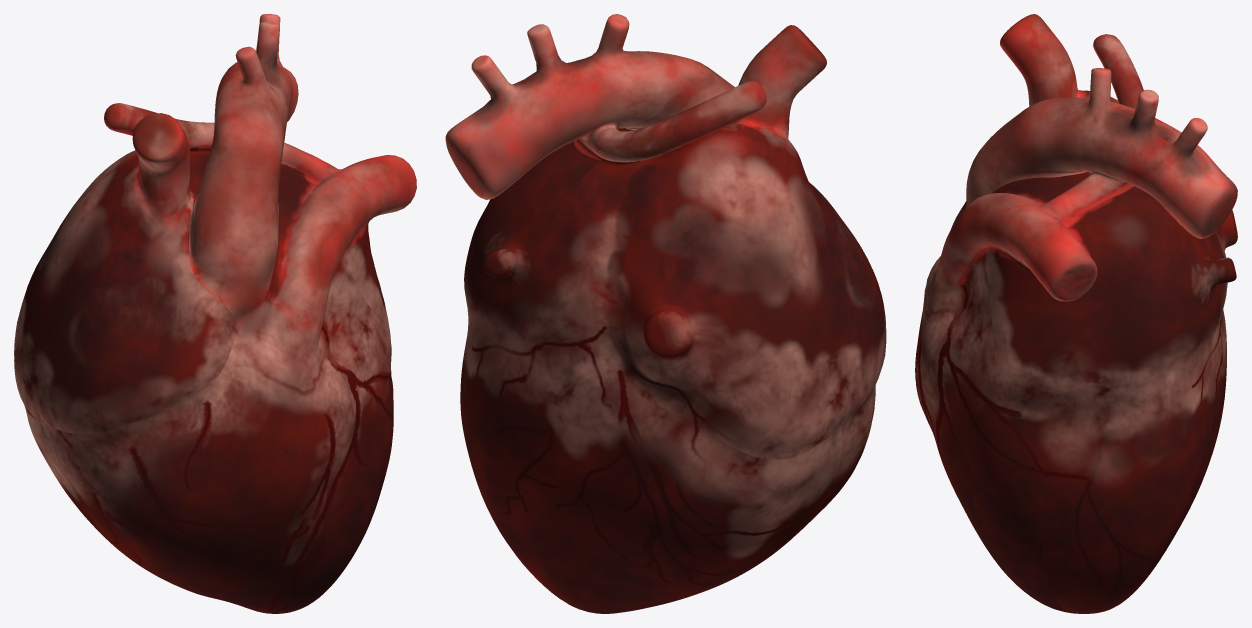
File: human_heart.glb
The picture shows the model from 3 angles, left to right: view 1: azimuth 30°, elevation 25°; view 2: azimuth 150°, elevation 25°; view 3: azimuth 270°, elevation 25°; orthographic projection. The views are drawn at different scales.
Parts seen in each view (by area): view 1: hart:ZBrush_defualt_group; view 2: hart:ZBrush_defualt_group; view 3: hart:ZBrush_defualt_group.
Boxes of the visible parts, left/top/right/bottom form: hart:ZBrush_defualt_group: left=14, top=14, right=416, bottom=613; hart:ZBrush_defualt_group: left=445, top=14, right=886, bottom=613; hart:ZBrush_defualt_group: left=915, top=14, right=1237, bottom=613.
Size of the model in its own units: 1.08 by 1.6 by 0.8801.
1 material, 1 textured.
